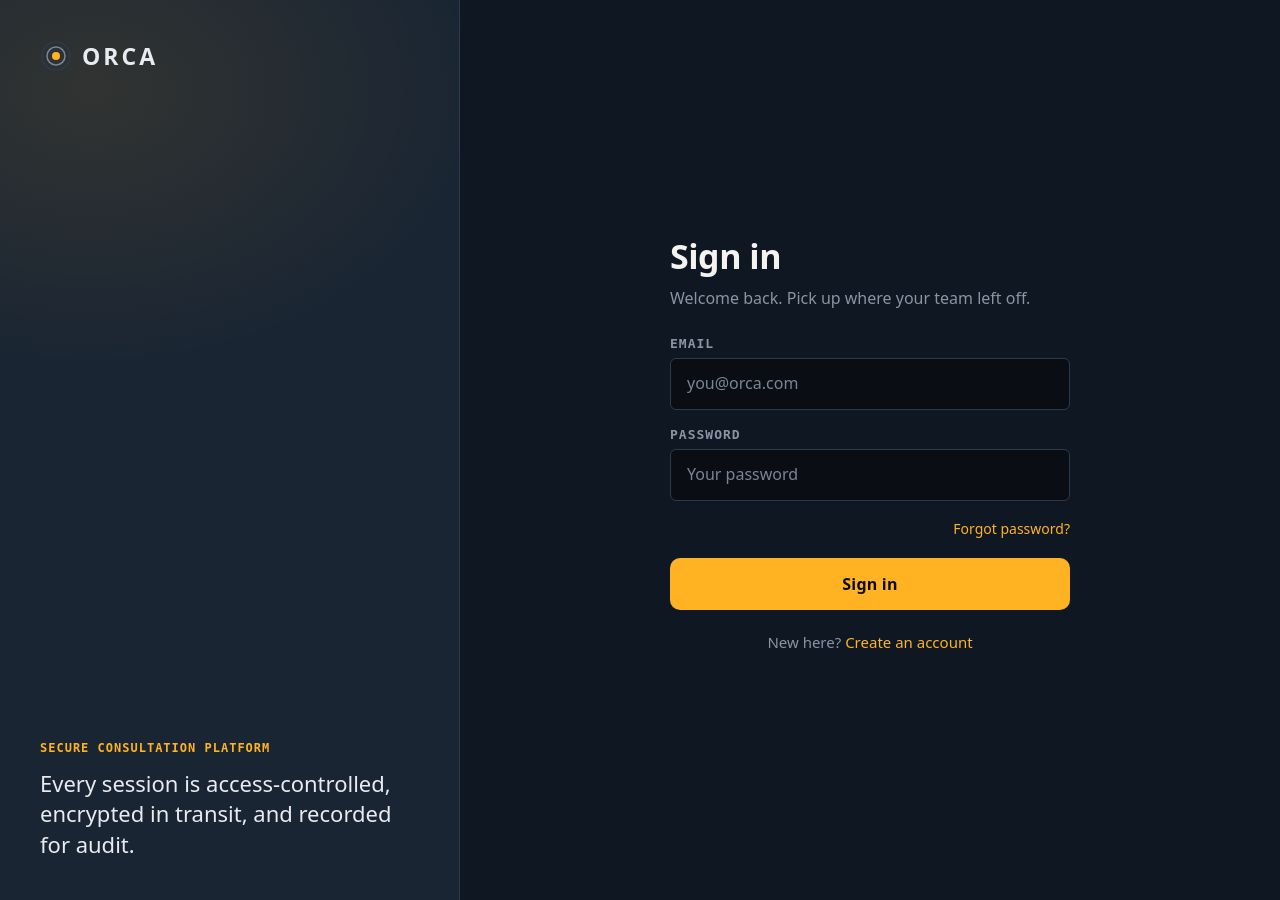
it: Login page › shows a validation message when fields are empty
Step 1. Click the button "Sign in" → (870, 584), box [670,558,1070,610]
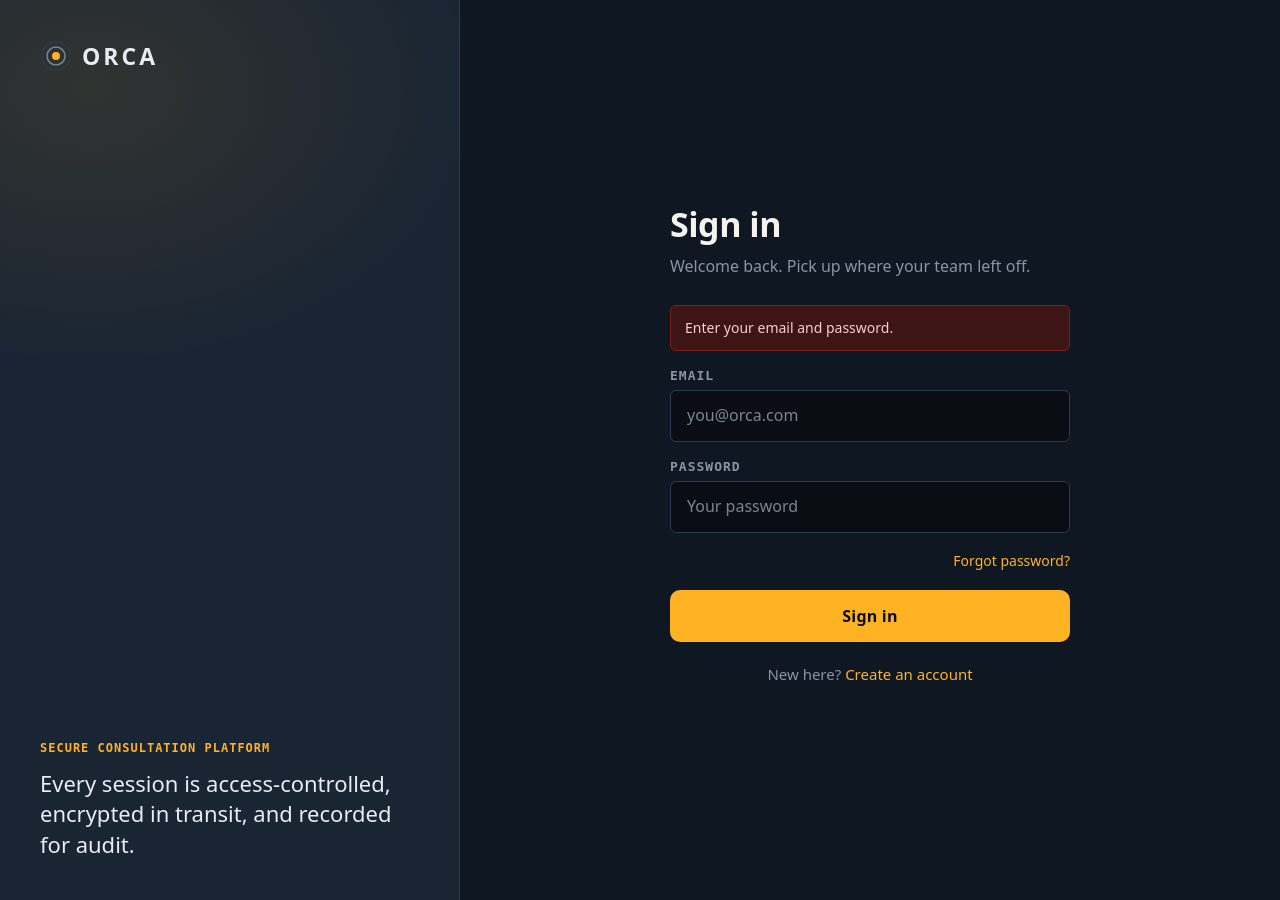
Expected: the text "Enter your email and password." is shown, [670,305,1070,351]
